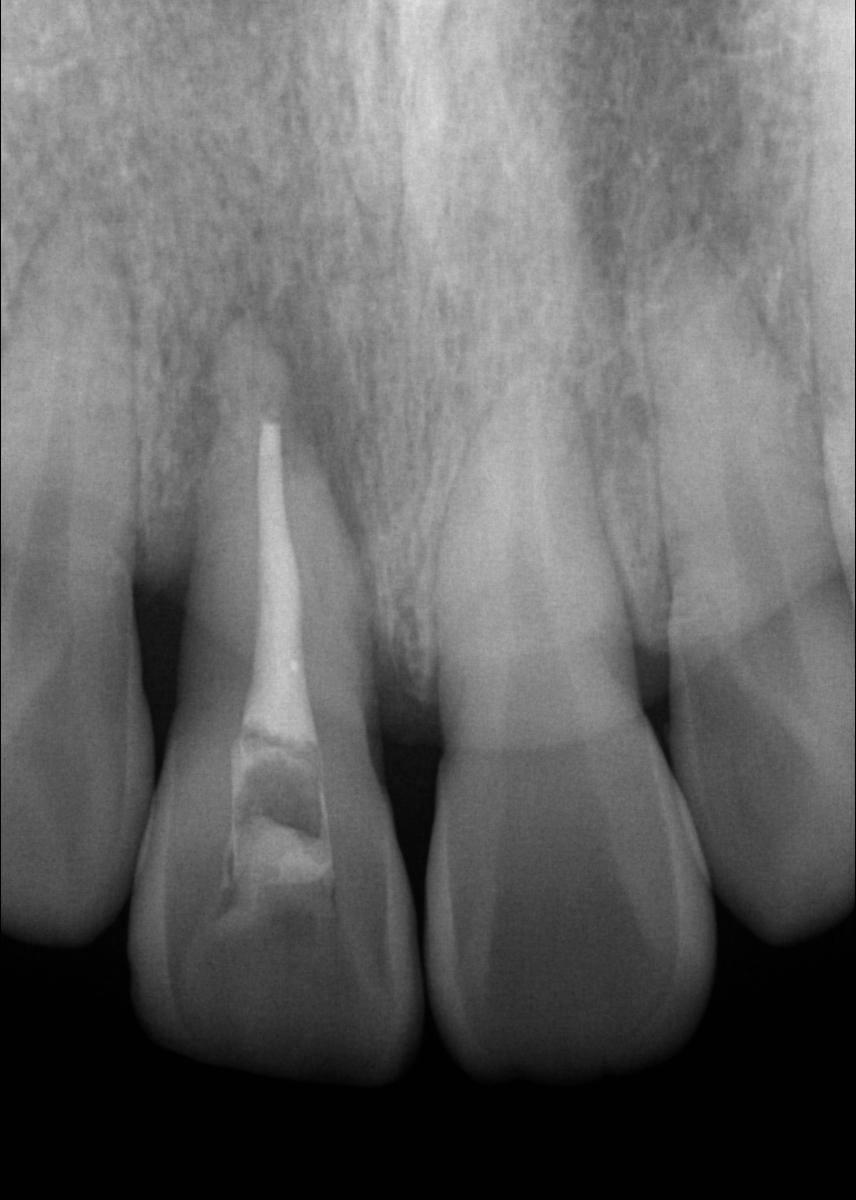Furcation Involvement: (164, 246, 382, 557)
